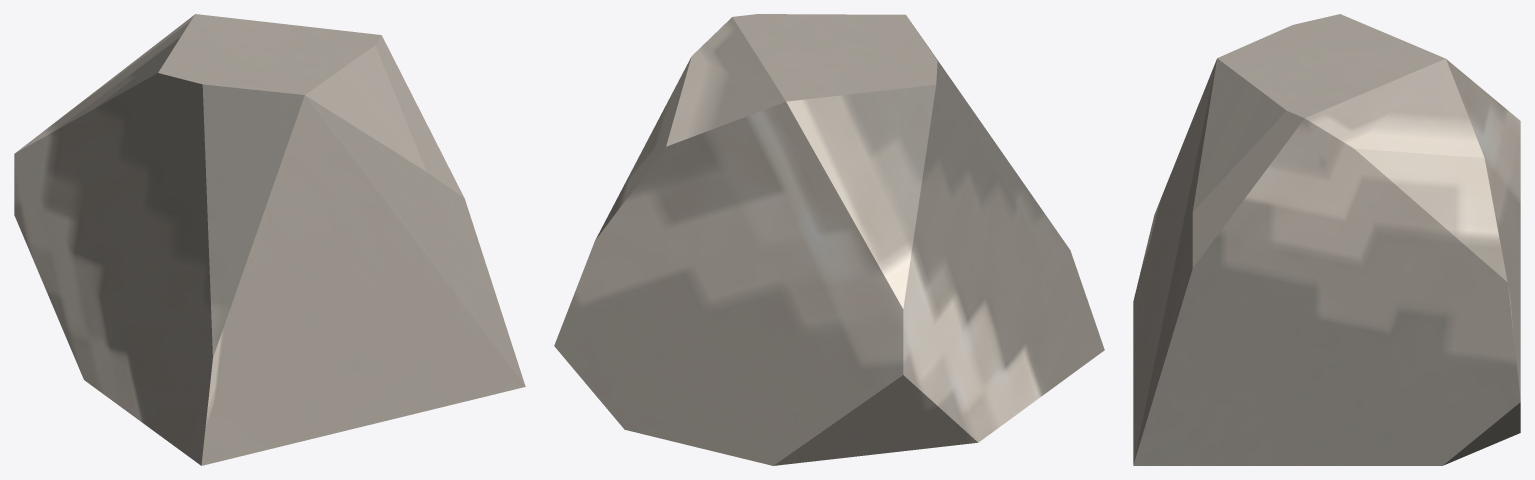
File: Forest_Rock_1.fbx
3 renders of one model, left to right at view 1: azimuth 30°, elevation 25°; view 2: azimuth 150°, elevation 25°; view 3: azimuth 270°, elevation 25°, orthographic. The views are drawn at different scales.
Visible parts, largest first — view 1: Cube.015; view 2: Cube.015; view 3: Cube.015.
Boxes of the visible parts, box(x1,y1,x2,y2) form: Cube.015: box(14, 14, 525, 465); Cube.015: box(554, 14, 1104, 465); Cube.015: box(1133, 14, 1520, 465).
Bounding box in the file's own units: 23.28 × 21 × 23.28.
